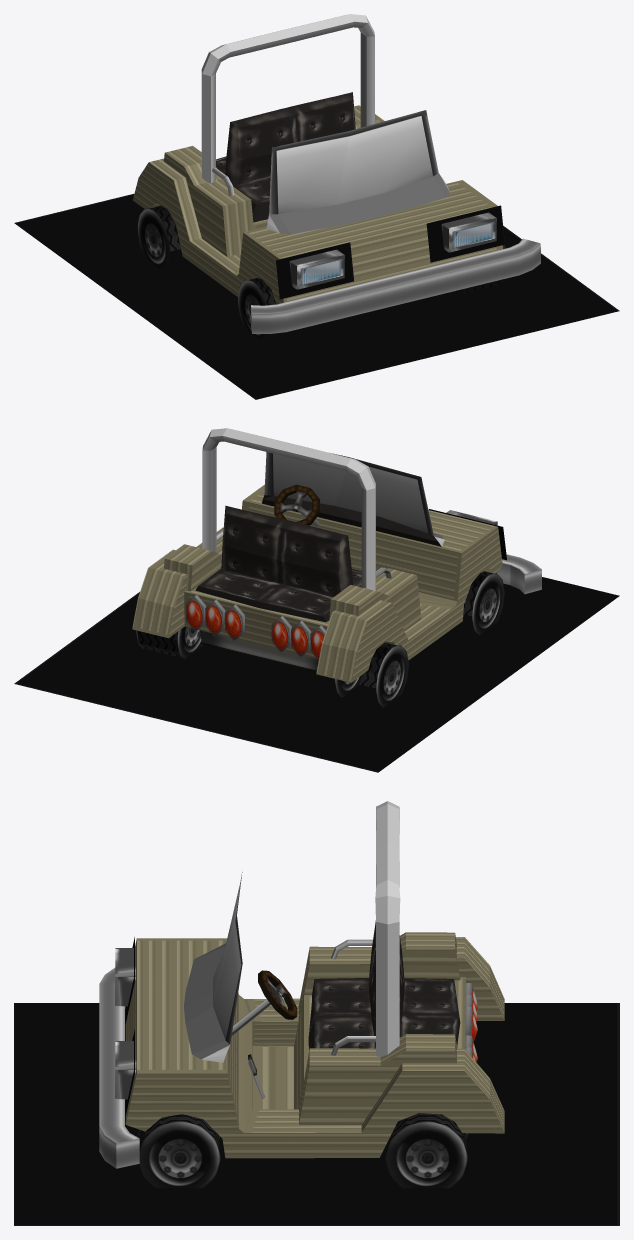
File: cgc_cart.fbx
The picture shows the model from 3 angles, top to bottom: view 1: azimuth 30°, elevation 25°; view 2: azimuth 150°, elevation 25°; view 3: azimuth 270°, elevation 25°; orthographic projection. The views are drawn at different scales.
Visible parts, largest first — view 1: shadow, cart_base, windshield4, bumper_front, back_cushion2, roll_bar, cart_sides, cart_hood, headlightLeft, shadow2, windshield3, rightBackWheel1 (+3 smaller); view 2: shadow, cart_base, back_cushion2, roll_bar, windshield4, cart_sides, seat_cushion, taillightRight, cart_hood, undrecarrage_back, rightBackWheel1, rightFrontWheel1 (+6 smaller); view 3: shadow, cart_base, cart_sides, seat_cushion, roll_bar, bumper_front, leftFrontWheel1, leftBackWheel1, cart_hood, headlightLeft, windshield4, steeringWheel (+5 smaller).
Boxes of the visible parts, left/top/right/bottom form: shadow: left=14, top=194, right=619, bottom=399; cart_base: left=132, top=114, right=502, bottom=303; windshield4: left=276, top=116, right=432, bottom=213; bumper_front: left=251, top=238, right=540, bottom=333; back_cushion2: left=225, top=92, right=355, bottom=184; roll_bar: left=201, top=14, right=374, bottom=183; cart_sides: left=164, top=105, right=379, bottom=256; cart_hood: left=266, top=173, right=449, bottom=234; headlightLeft: left=289, top=212, right=496, bottom=289; shadow2: left=276, top=205, right=504, bottom=299; windshield3: left=269, top=110, right=438, bottom=214; rightBackWheel1: left=137, top=208, right=170, bottom=270; shadow: left=14, top=577, right=619, bottom=772; cart_base: left=132, top=484, right=502, bottom=682; back_cushion2: left=221, top=505, right=352, bottom=596; roll_bar: left=202, top=428, right=375, bottom=590; windshield4: left=273, top=453, right=428, bottom=533; cart_sides: left=164, top=527, right=421, bottom=631; seat_cushion: left=195, top=567, right=361, bottom=622; taillightRight: left=185, top=594, right=325, bottom=660; cart_hood: left=262, top=495, right=444, bottom=546; undrecarrage_back: left=199, top=630, right=318, bottom=671; rightBackWheel1: left=376, top=645, right=408, bottom=707; rightFrontWheel1: left=472, top=573, right=504, bottom=635; shadow: left=14, top=1003, right=619, bottom=1225; cart_base: left=125, top=937, right=504, bottom=1158; cart_sides: left=294, top=932, right=460, bottom=1124; seat_cushion: left=308, top=978, right=460, bottom=1049; roll_bar: left=375, top=801, right=400, bottom=1057; bumper_front: left=99, top=967, right=139, bottom=1168; leftFrontWheel1: left=139, top=1121, right=220, bottom=1188; leftBackWheel1: left=385, top=1121, right=467, bottom=1188; cart_hood: left=184, top=943, right=229, bottom=1062; headlightLeft: left=115, top=948, right=136, bottom=1099; windshield4: left=213, top=879, right=241, bottom=1039; steeringWheel: left=258, top=970, right=297, bottom=1019.
Size of the model in its own units: 10.17 by 5.97 by 11.69.
11 materials, 11 textured.
